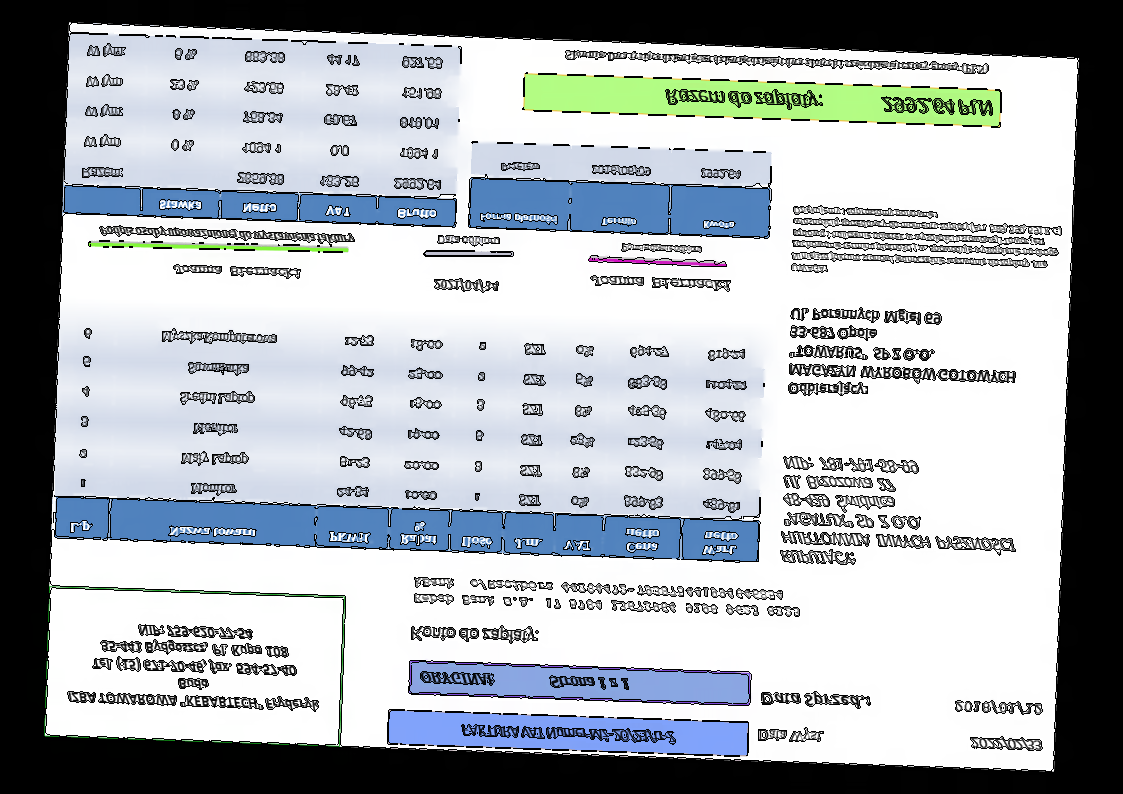Table: (53, 313, 767, 563), (63, 32, 463, 229), (468, 141, 772, 239)
TextBox: (778, 453, 1020, 574), (66, 618, 324, 714), (786, 303, 1020, 405), (790, 203, 1065, 285), (411, 574, 804, 620), (563, 47, 991, 77), (663, 84, 995, 119), (97, 223, 354, 247), (459, 720, 678, 746), (418, 669, 633, 694), (408, 620, 541, 648), (588, 273, 732, 293), (759, 688, 871, 712), (172, 262, 302, 281), (952, 698, 1045, 718), (755, 726, 830, 746), (967, 734, 1045, 753), (431, 275, 500, 295), (620, 241, 703, 256), (435, 233, 500, 248)
